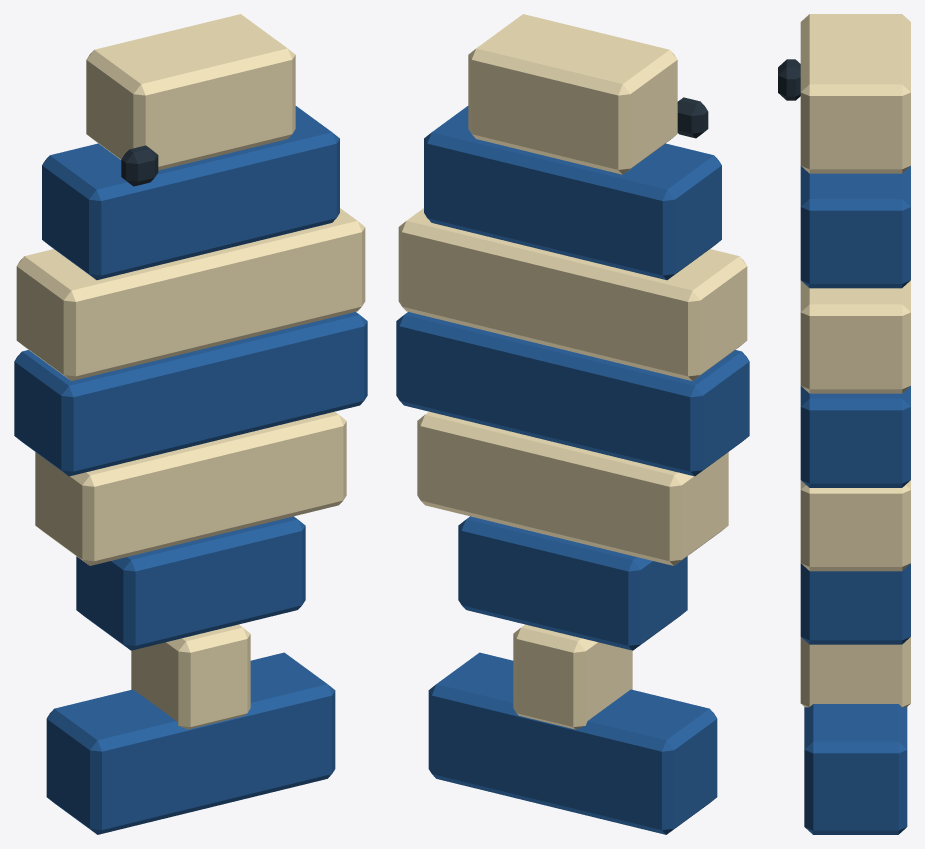
The model's file is striped_fish.glb.
3 views of the same model, side by side, from view 1: azimuth 30°, elevation 25°; view 2: azimuth 150°, elevation 25°; view 3: azimuth 270°, elevation 25° (orthographic).
Visible parts, largest first — view 1: striped_fish__body__azure, striped_fish__body__linen, striped_fish__body__ink; view 2: striped_fish__body__azure, striped_fish__body__linen, striped_fish__body__ink; view 3: striped_fish__body__linen, striped_fish__body__azure, striped_fish__body__ink.
Part boxes in pixels (bbox=[...]): striped_fish__body__azure: bbox=[14, 106, 367, 834]; striped_fish__body__linen: bbox=[16, 14, 365, 729]; striped_fish__body__ink: bbox=[121, 145, 158, 186]; striped_fish__body__azure: bbox=[396, 106, 749, 834]; striped_fish__body__linen: bbox=[398, 14, 747, 729]; striped_fish__body__ink: bbox=[677, 97, 708, 138]; striped_fish__body__linen: bbox=[800, 14, 910, 707]; striped_fish__body__azure: bbox=[800, 166, 910, 834]; striped_fish__body__ink: bbox=[778, 59, 800, 100].
Bounding box in the file's own units: 0.237 × 0.5485 × 0.0905.
